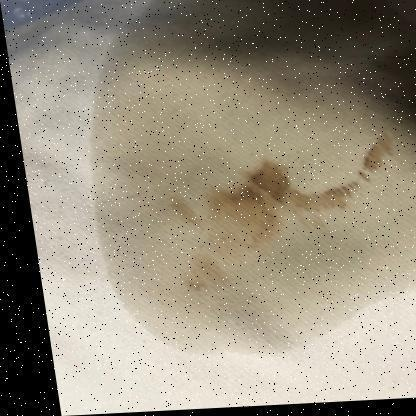coffee: (108, 53, 405, 317)
